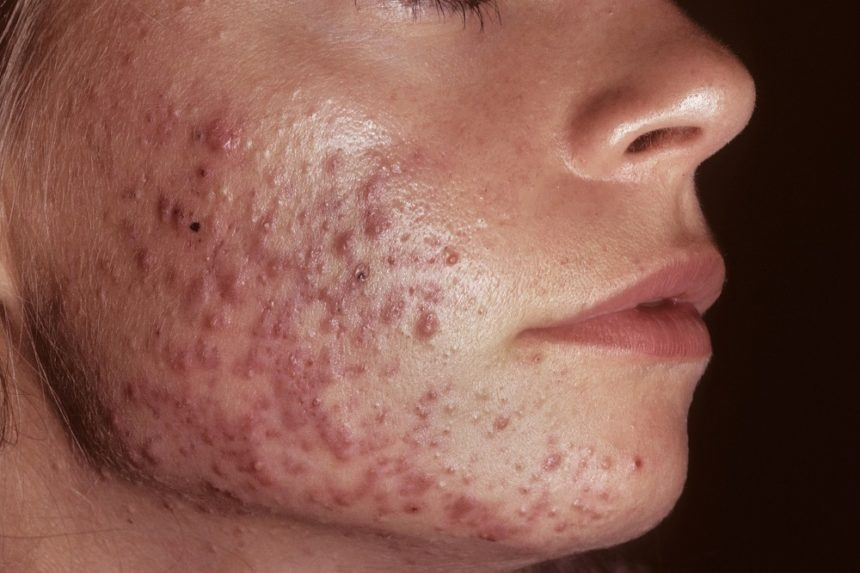Acne: (198, 118, 243, 162), (345, 252, 380, 297), (182, 207, 222, 245), (435, 235, 472, 275), (480, 405, 520, 442), (415, 307, 453, 345), (200, 298, 223, 338)
